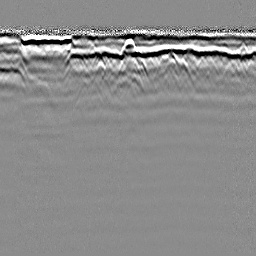cavity: (119, 35, 137, 54)
